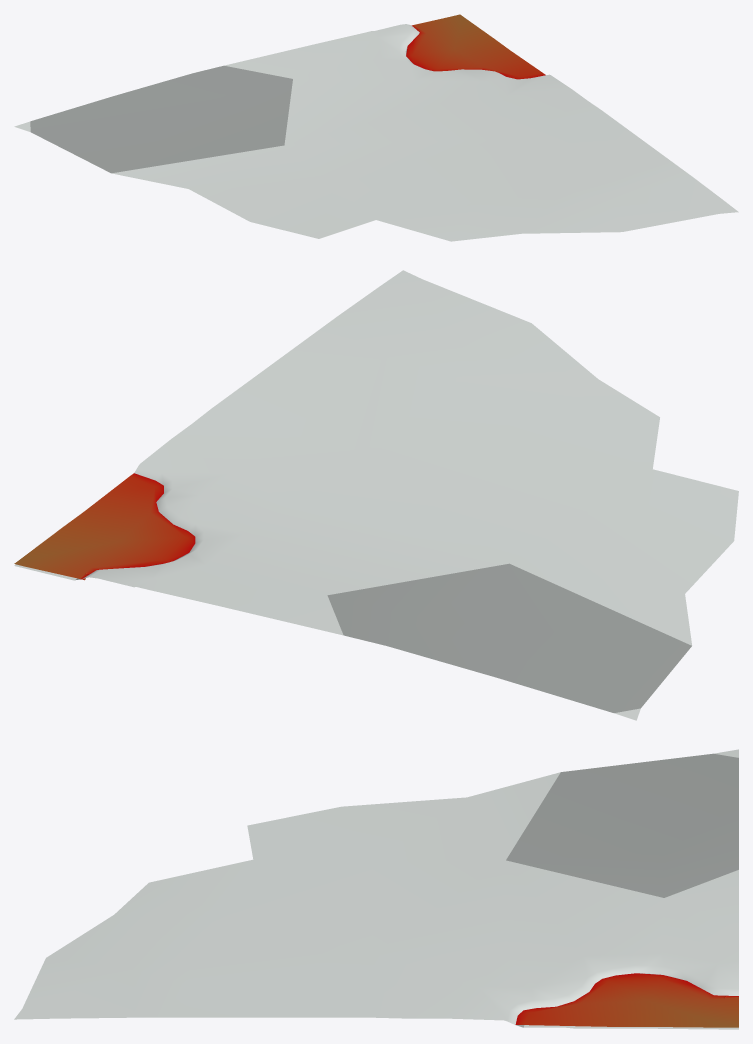
The picture shows the model from 3 angles, top to bottom: view 1: azimuth 30°, elevation 25°; view 2: azimuth 150°, elevation 25°; view 3: azimuth 270°, elevation 25°; orthographic projection. The views are drawn at different scales.
Visible parts, largest first — view 1: G:\FFXIV-MapTools\exports\r2f1\bg\ex1\01_roc_r2\fld\r2f1\bgp (×4); view 2: G:\FFXIV-MapTools\exports\r2f1\bg\ex1\01_roc_r2\fld\r2f1\bgp (×4); view 3: G:\FFXIV-MapTools\exports\r2f1\bg\ex1\01_roc_r2\fld\r2f1\bgp (×5).
Boxes of the visible parts, x1,y1,x2,y2 form: G:\FFXIV-MapTools\exports\r2f1\bg\ex1\01_roc_r2\fld\r2f1\bgp (×4): (14, 14, 738, 241); G:\FFXIV-MapTools\exports\r2f1\bg\ex1\01_roc_r2\fld\r2f1\bgp (×4): (14, 270, 738, 720); G:\FFXIV-MapTools\exports\r2f1\bg\ex1\01_roc_r2\fld\r2f1\bgp (×5): (14, 749, 738, 1029).
Bounding box in the file's own units: 82.84 × 2.62 × 89.69.
